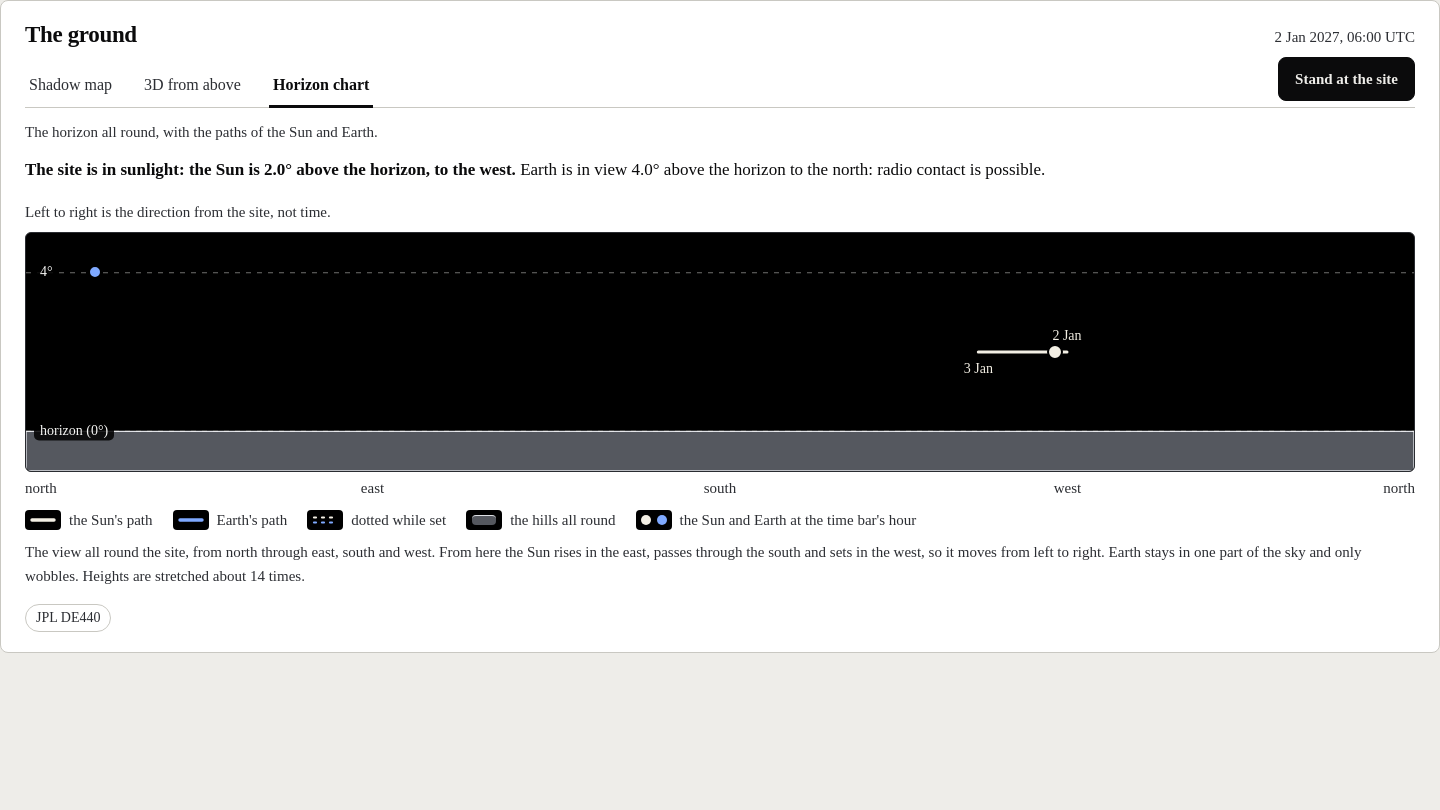
Test: GroundPanel › a site with no polar terrain: opens on the horizon chart, says why there is no map, and shows only the globe in 3D from above
Click the tab "Shadow map" at (71,86), box [25,64,116,108]
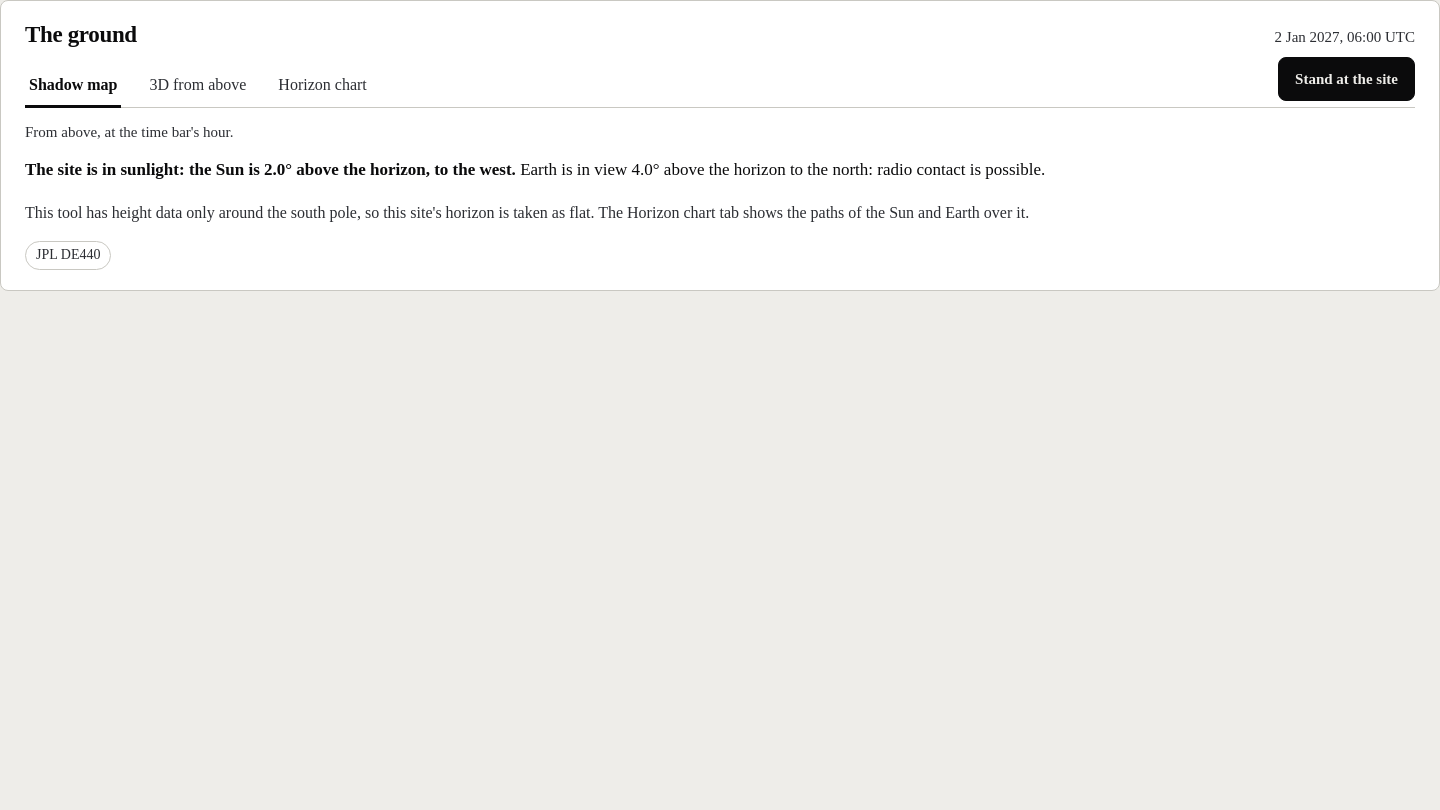
Result: the panel named "Shadow map" shows "This tool has height data only around the south pole, so this site's horizon is taken as flat. The Horizon chart tab shows the paths of the Sun and Earth over" at [25,204,1029,221]
Click the tab "3D from above" at (198,86), box [146,64,250,108]
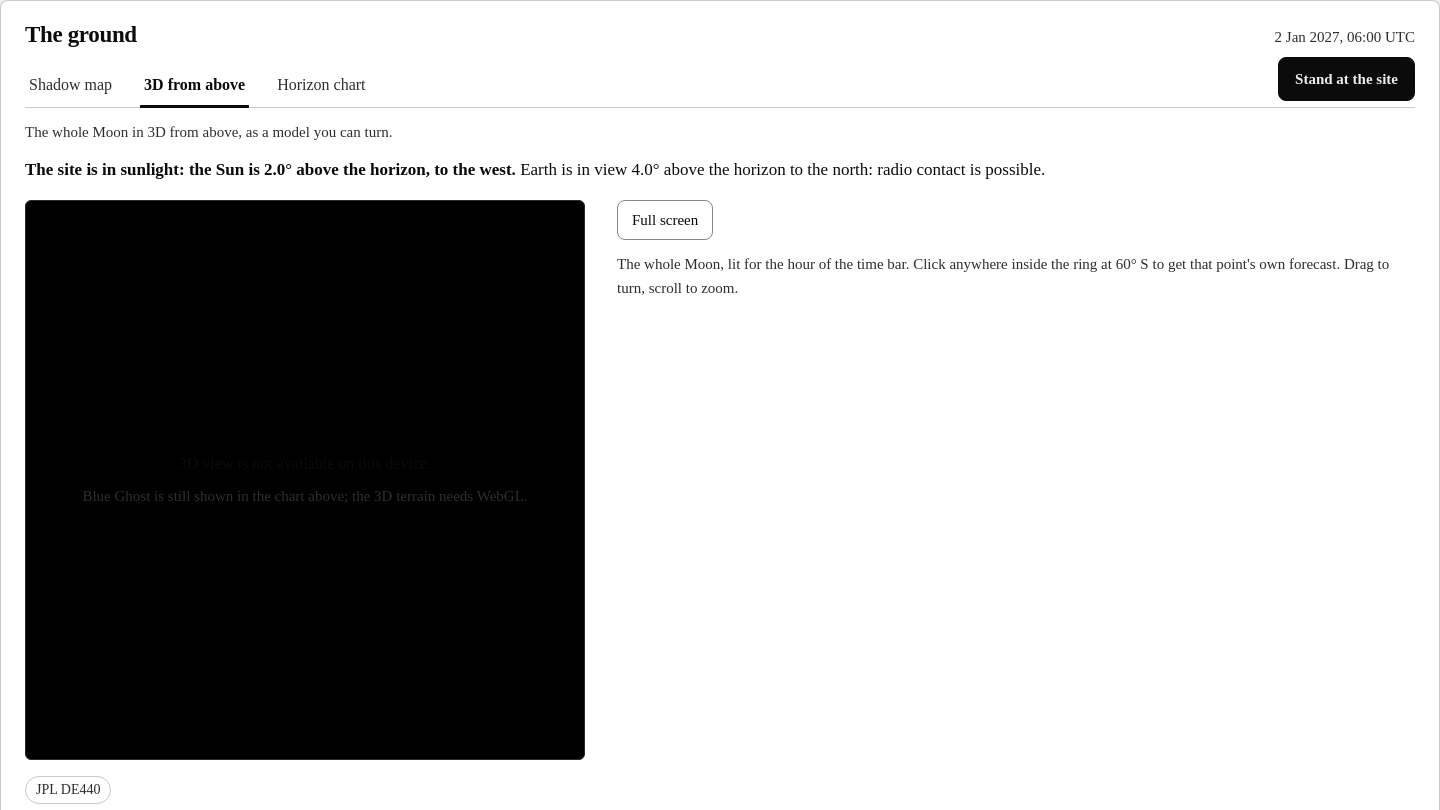
Result: the panel named "3D from above" shows "The whole Moon" at [617,256,1389,296]
Result: the message shows "Blue Ghost" at [82,488,150,504]
